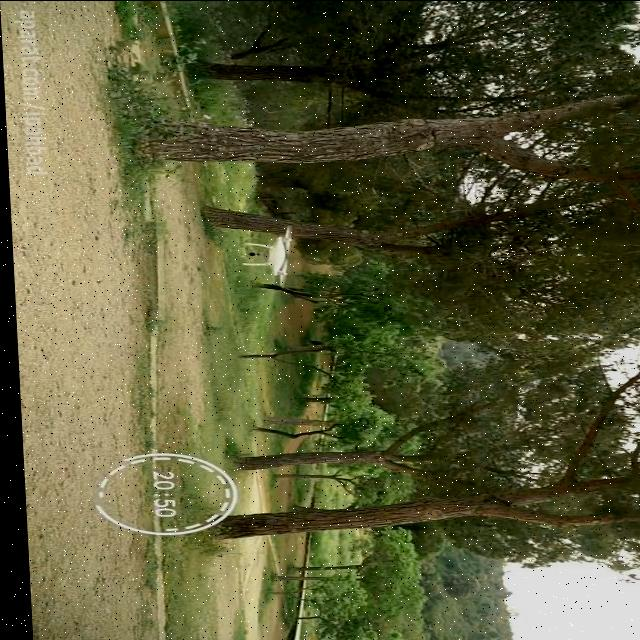drone: (237, 223, 294, 289)
